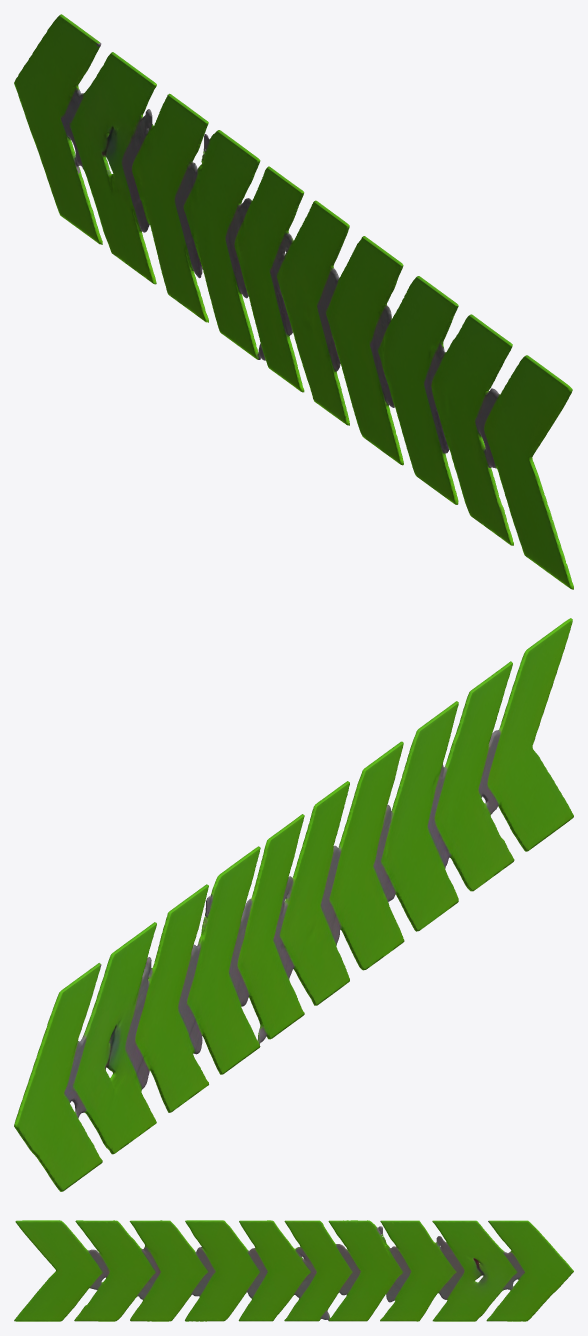
Rendered from Arrow.fbx.
The picture shows the model from 3 angles, top to bottom: view 1: azimuth 30°, elevation 25°; view 2: azimuth 150°, elevation 25°; view 3: azimuth 270°, elevation 25°; orthographic projection. The views are drawn at different scales.
Visible parts, largest first — view 1: tripo_node_c3af7e20; view 2: tripo_node_c3af7e20; view 3: tripo_node_c3af7e20.
Part boxes in pixels (bbox=[...]): tripo_node_c3af7e20: bbox=[14, 14, 573, 589]; tripo_node_c3af7e20: bbox=[14, 618, 573, 1191]; tripo_node_c3af7e20: bbox=[14, 1220, 573, 1321].
Size of the model in its own units: 0.3963 by 19.93 by 100.
1 material, 1 textured.
